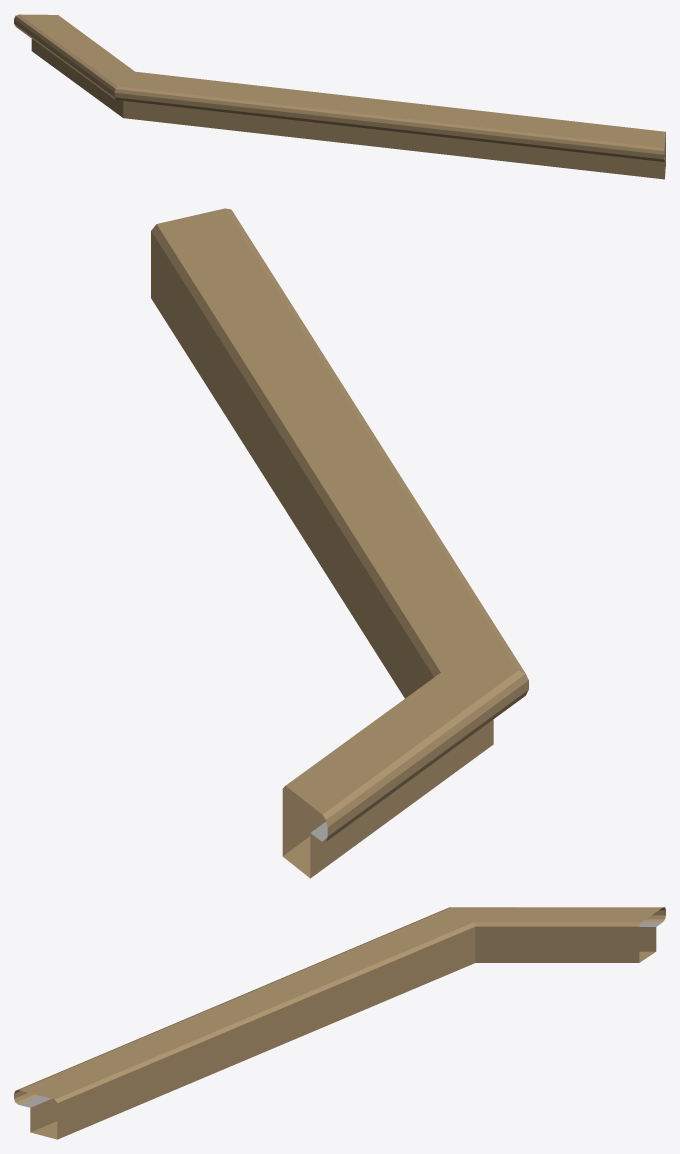
The model's file is waterFountain_basinRim.fbx.
3 views of the same model, one above another, from view 1: azimuth 30°, elevation 25°; view 2: azimuth 150°, elevation 25°; view 3: azimuth 270°, elevation 25° (orthographic). The views are drawn at different scales.
Parts seen in each view (by area): view 1: waterFountain_basinRim; view 2: waterFountain_basinRim; view 3: waterFountain_basinRim.
Boxes of the visible parts, x1=… form: waterFountain_basinRim: x1=14, y1=14, x2=665, y2=179; waterFountain_basinRim: x1=151, y1=208, x2=528, y2=878; waterFountain_basinRim: x1=14, y1=907, x2=665, y2=1139.
Bounding box in the file's own units: 212 × 20 × 300.
